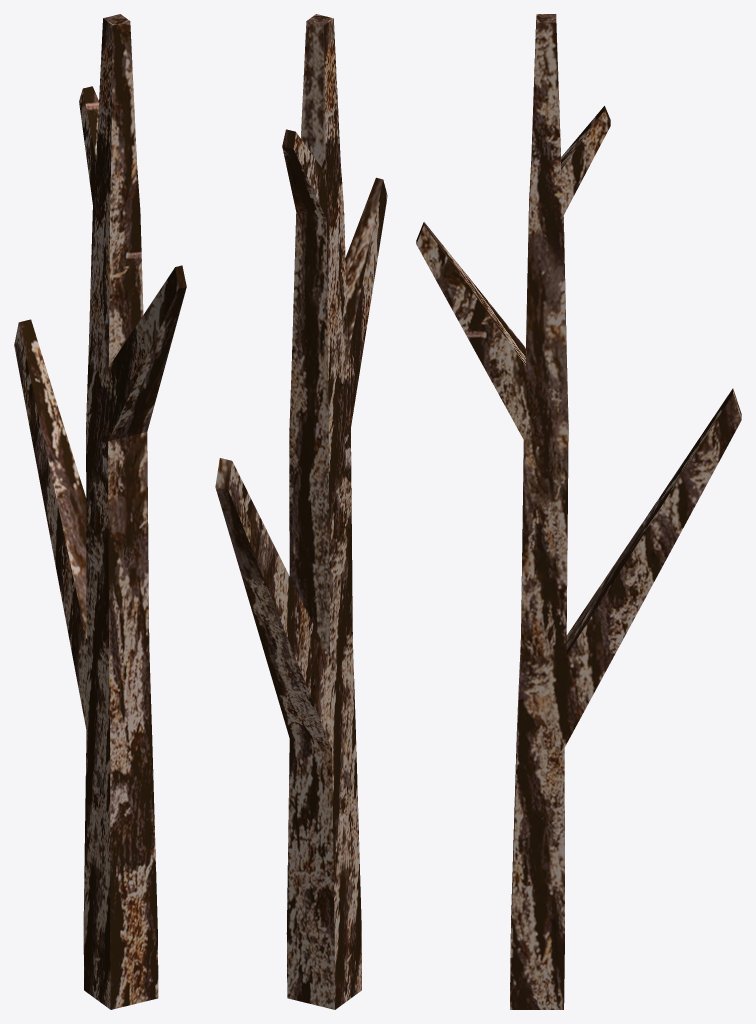
File: StickModel 1.fbx
The picture shows the model from 3 angles, left to right: view 1: azimuth 30°, elevation 25°; view 2: azimuth 150°, elevation 25°; view 3: azimuth 270°, elevation 25°; orthographic projection.
Parts seen in each view (by area): view 1: Stick; view 2: Stick; view 3: Stick.
Boxes of the visible parts, x1,y1,x2,y2 form: Stick: [14, 14, 186, 1009]; Stick: [215, 14, 387, 1009]; Stick: [416, 14, 741, 1009].
Size of the model in its own units: 71.29 by 1391 by 418.
